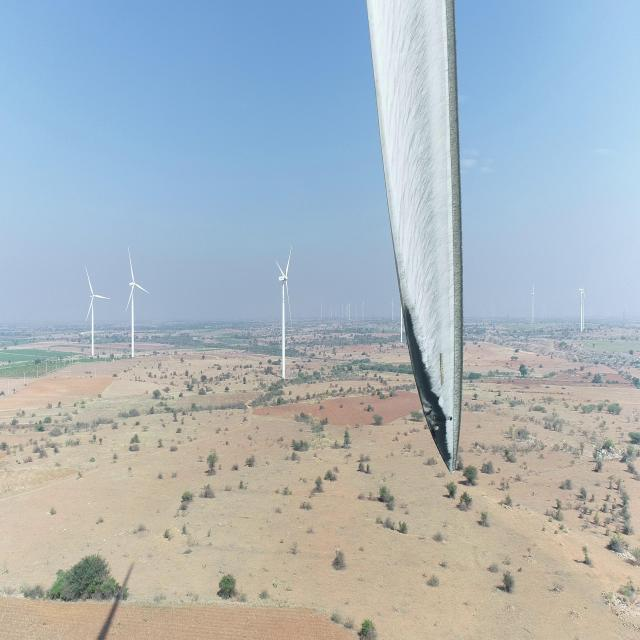Dirt: (369, 0, 461, 473)
Oil LEAKAGE: (401, 307, 456, 469)
Pin Hole: (446, 412, 455, 424)
